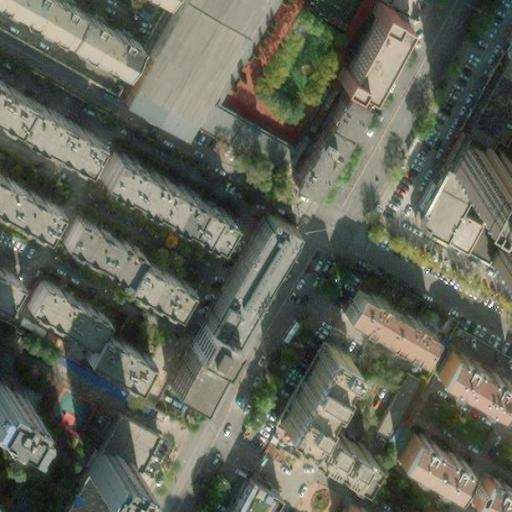building: (407, 130, 512, 266), (59, 211, 188, 310), (98, 150, 232, 245), (268, 340, 359, 472), (193, 215, 283, 342), (55, 415, 153, 512), (0, 84, 96, 163), (340, 284, 434, 355), (191, 100, 277, 167), (21, 271, 101, 335), (434, 346, 512, 409), (394, 426, 469, 489), (447, 143, 512, 204), (78, 327, 145, 380), (331, 82, 383, 138), (78, 446, 133, 495), (175, 325, 226, 375), (158, 356, 204, 403), (373, 373, 410, 426), (227, 484, 275, 512), (489, 241, 512, 286)
